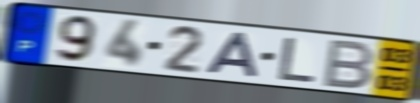2: (162, 25, 205, 76)
4: (102, 17, 147, 71)
9: (53, 14, 99, 64)
A: (203, 30, 262, 80)
B: (320, 38, 377, 91)
L: (276, 36, 319, 84)
